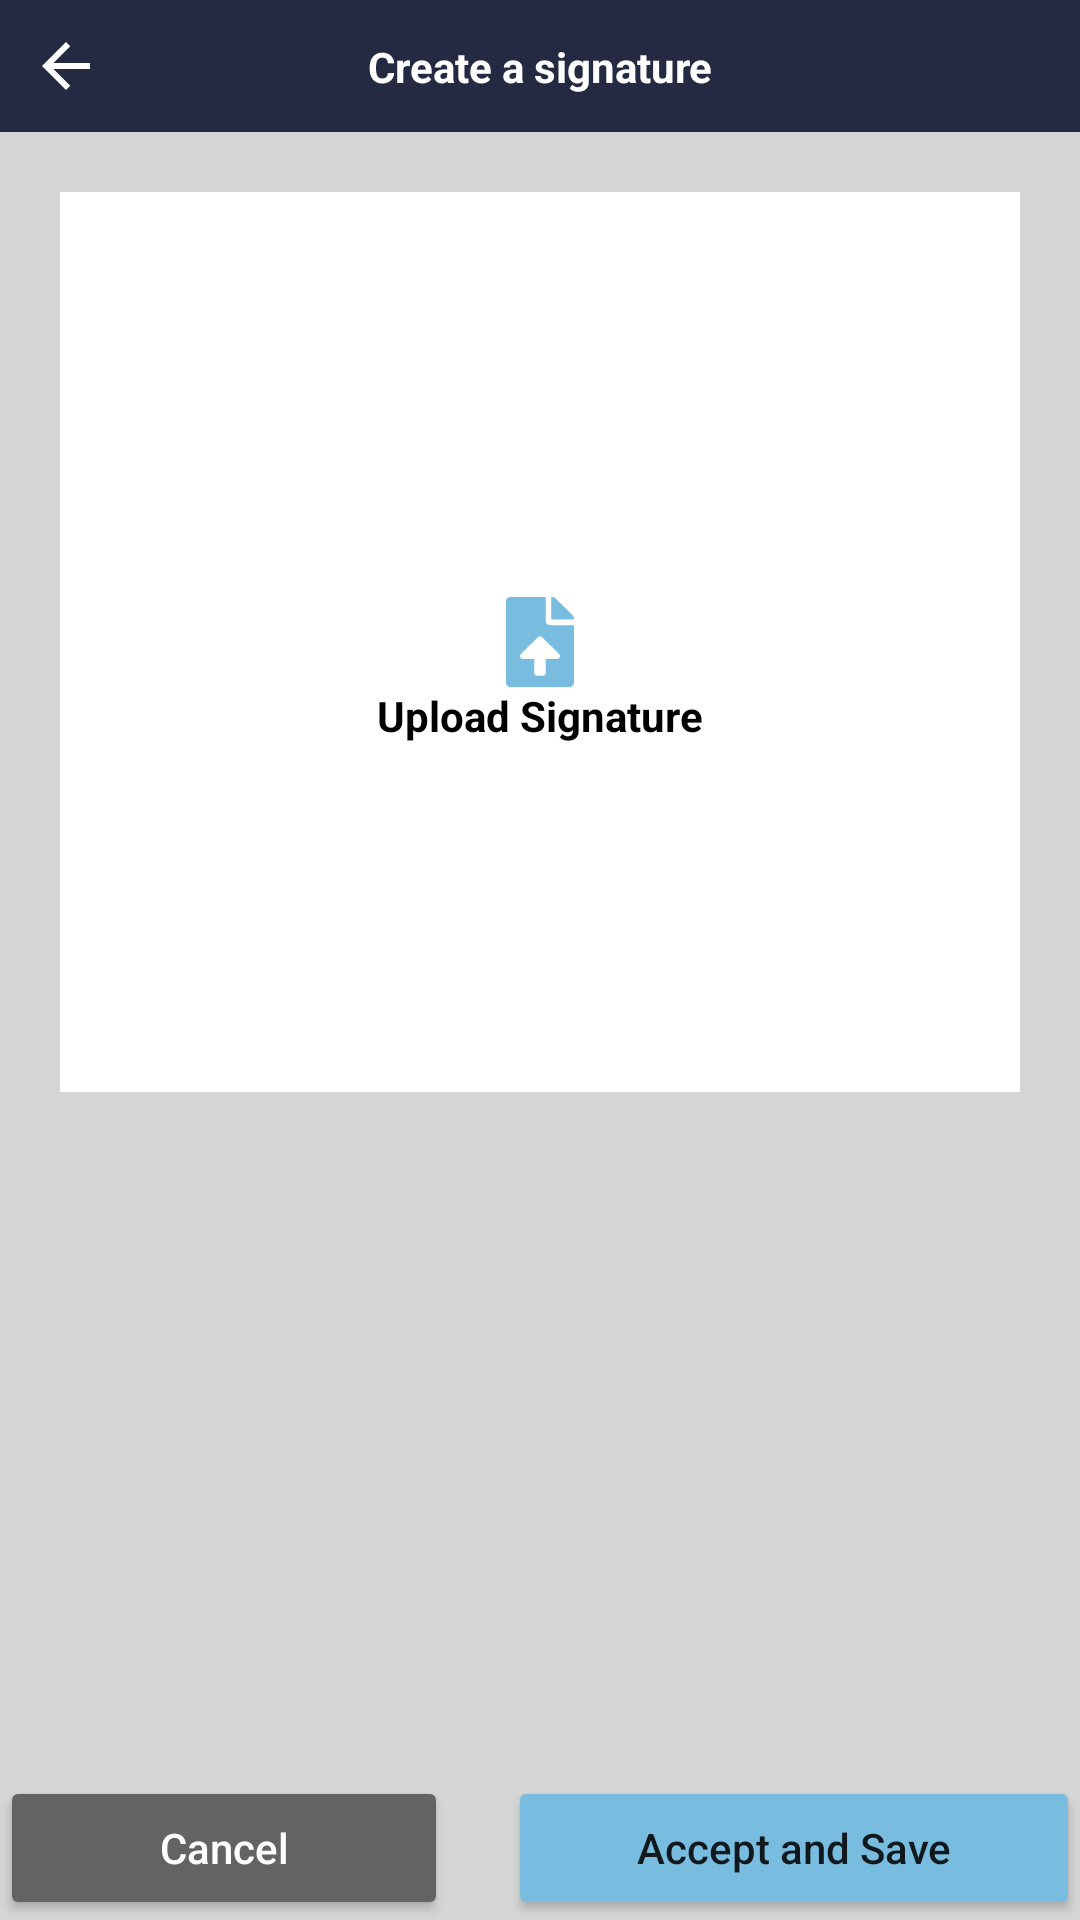

Screen size 1080 x 1920. Icon name, then its box in pixels as bbox=[x1, y1, x2, y2]:
arrow back: bbox=[42, 42, 90, 90]
upload file: bbox=[506, 597, 574, 687]
